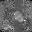people: (14, 10, 24, 23)
